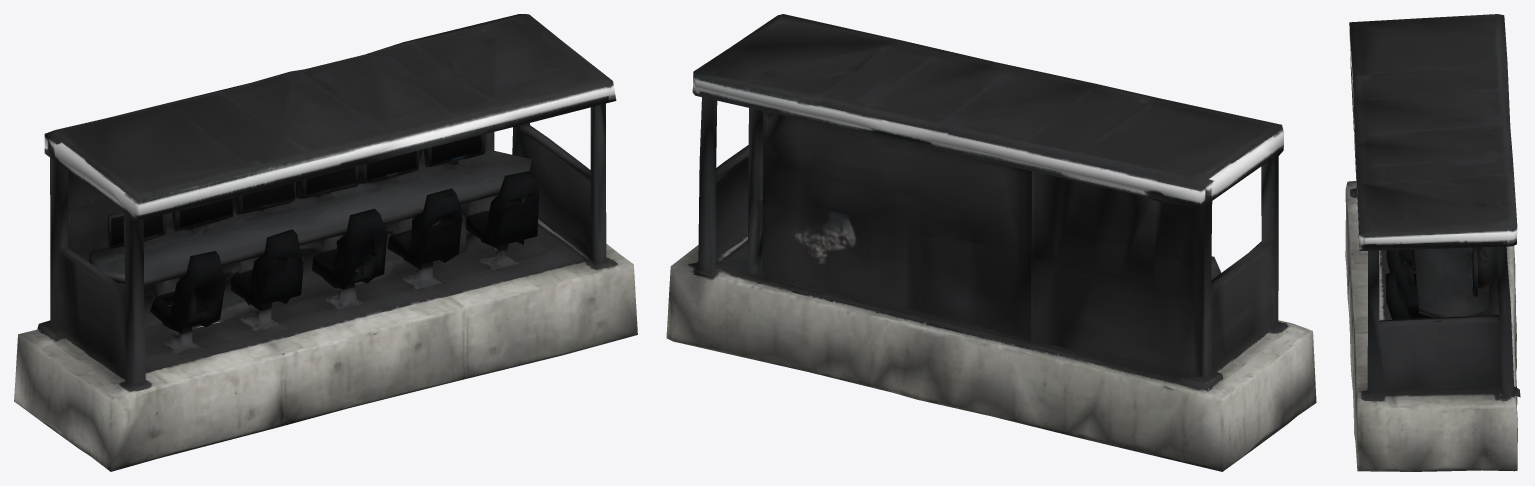
The model's file is pit_stand.glb.
3 views of the same model, side by side, from view 1: azimuth 30°, elevation 25°; view 2: azimuth 150°, elevation 25°; view 3: azimuth 270°, elevation 25° (orthographic). The views are drawn at different scales.
Visible parts, largest first — view 1: body_pit_stand; view 2: body_pit_stand; view 3: body_pit_stand.
Part boxes in pixels (x1,y1,x2,y2): body_pit_stand: (14, 14, 637, 471); body_pit_stand: (666, 14, 1316, 471); body_pit_stand: (1345, 14, 1520, 471).
Bounding box in the file's own units: 7.65 × 3.69 × 2.43.
1 material, 1 textured.
